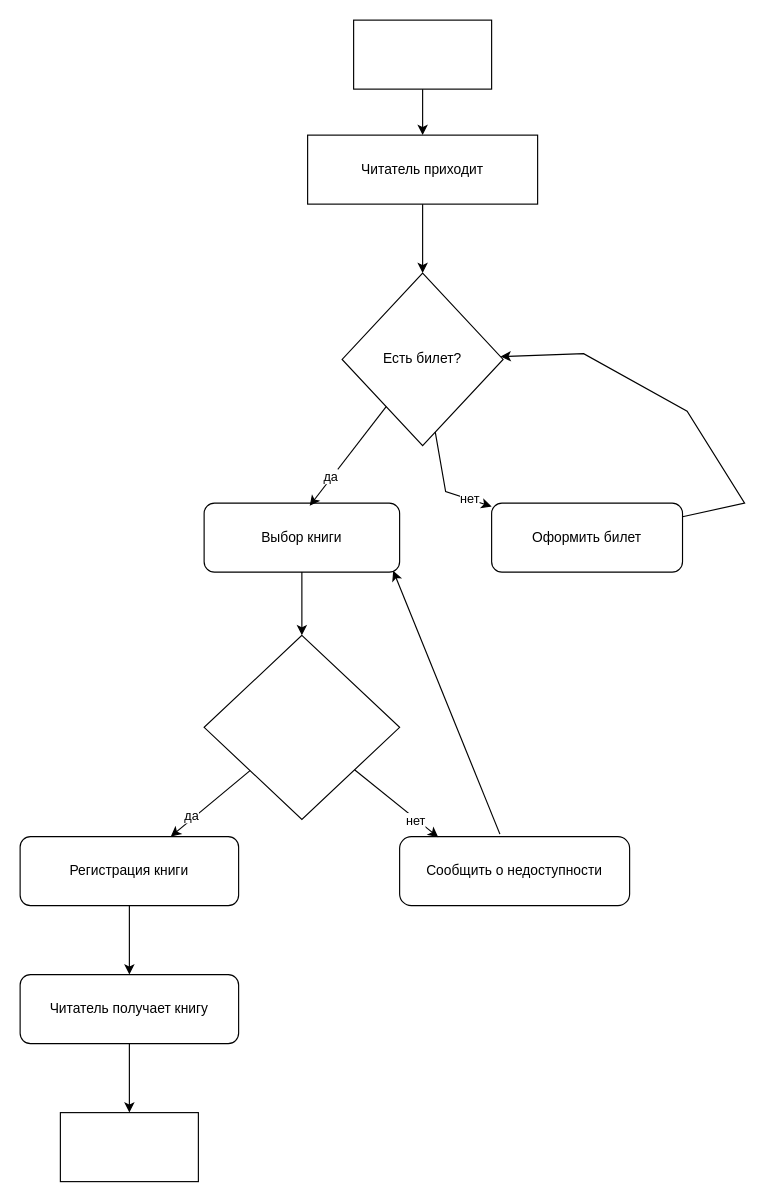
Image size: 774x1202. Some labels were removed from this diagram. Here are the shapes that lost their labels. From the top down, the box of each, then its label:
(352, 19, 492, 89): Начало
(203, 634, 400, 819): Книга есть?
(59, 1111, 198, 1182): Конец
